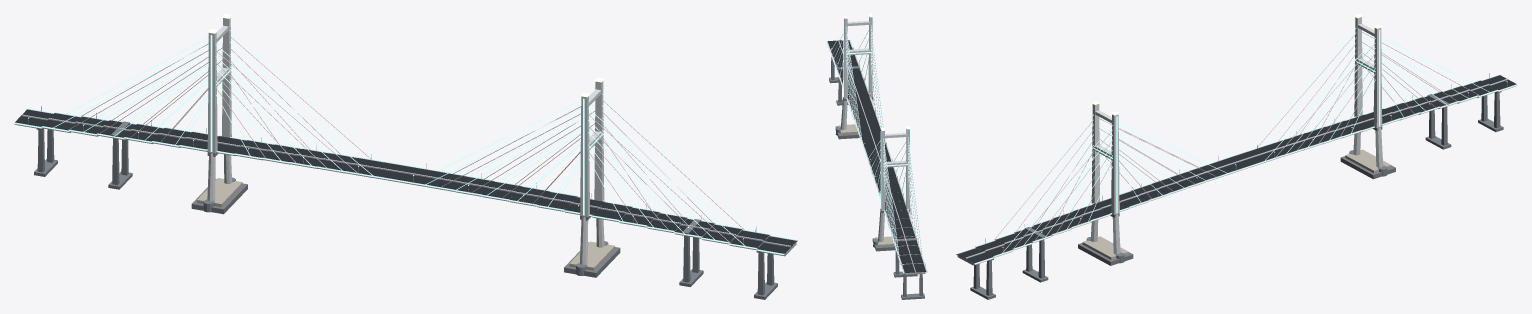
Rendered from cau_phu_my.glb.
3 views of the same model, side by side, from view 1: azimuth 30°, elevation 25°; view 2: azimuth 150°, elevation 25°; view 3: azimuth 270°, elevation 25° (orthographic). The views are drawn at different scales.
Visible parts, largest first — view 1: cau_phu_my; view 2: cau_phu_my; view 3: cau_phu_my.
Part boxes in pixels (<box>): cau_phu_my: <box>14,14,797,299</box>; cau_phu_my: <box>826,14,927,299</box>; cau_phu_my: <box>956,14,1517,299</box>.
Size of the model in its own units: 404 by 145 by 506.
